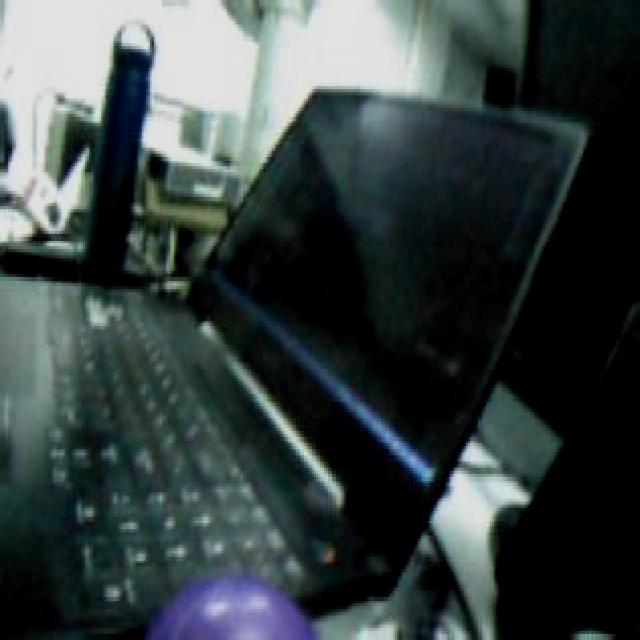BallPurple: (146, 569, 316, 640)
